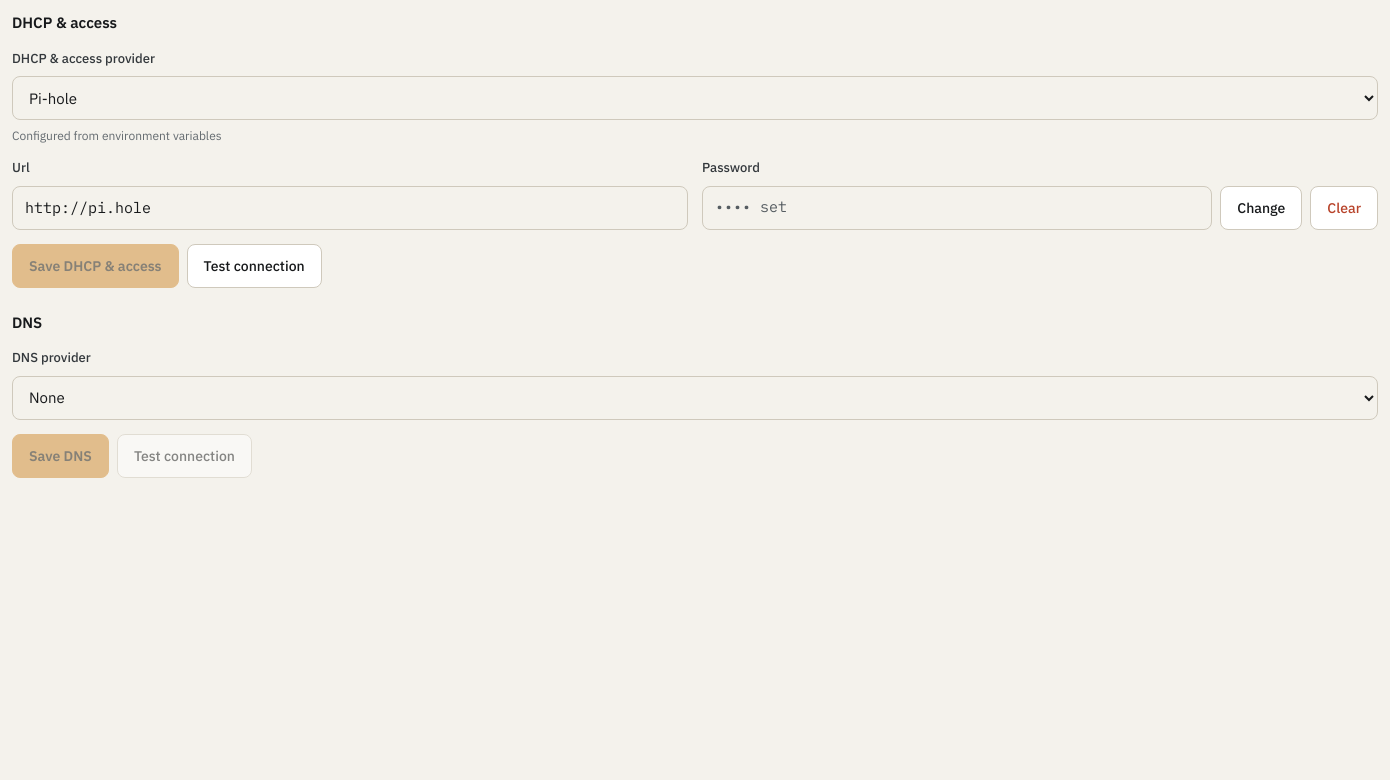
drops an unsaved DNS draft once DHCP is saved
Select "Pi-hole" in the dropdown labelled "DNS provider" at (695, 398), box [12,376,1378,420]
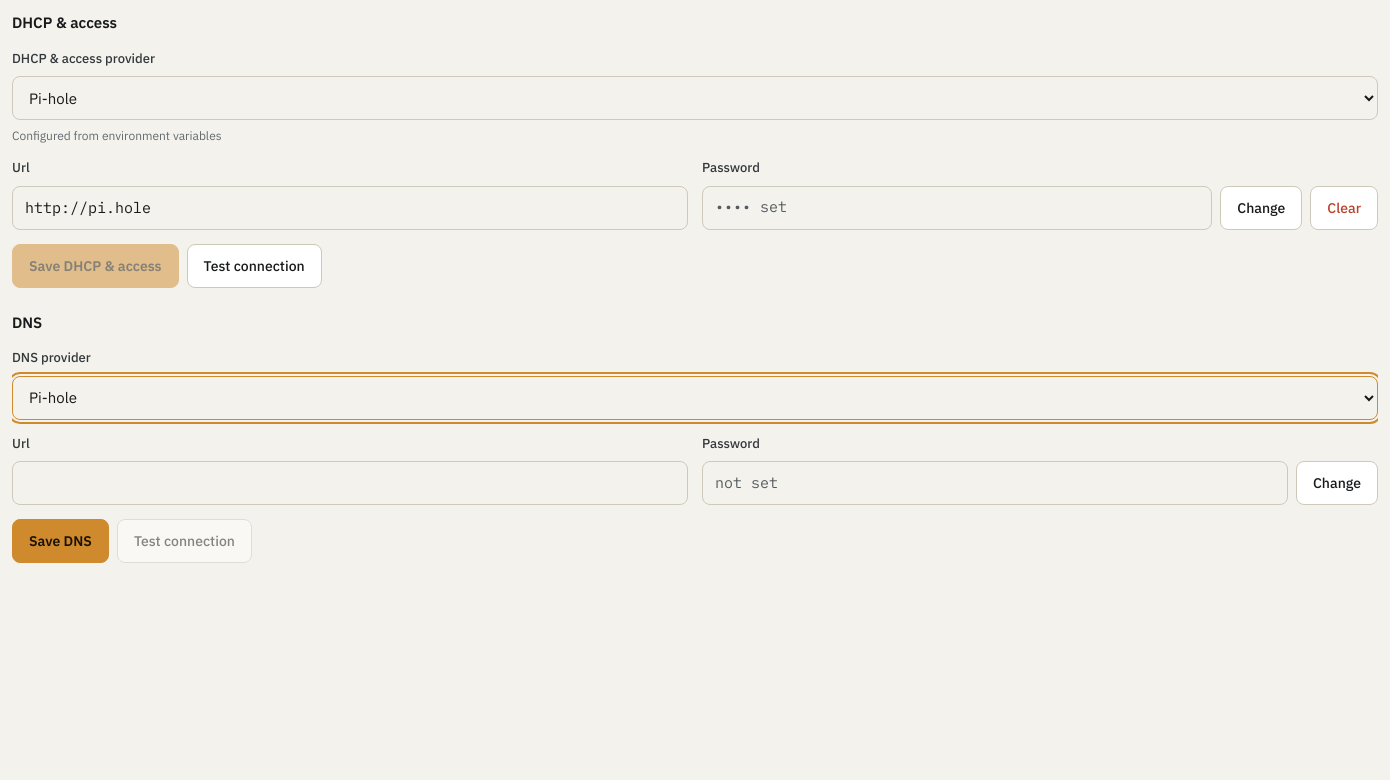
Select "UniFi" in the dropdown labelled "DHCP & access provider" at (695, 98), box [12,76,1378,120]
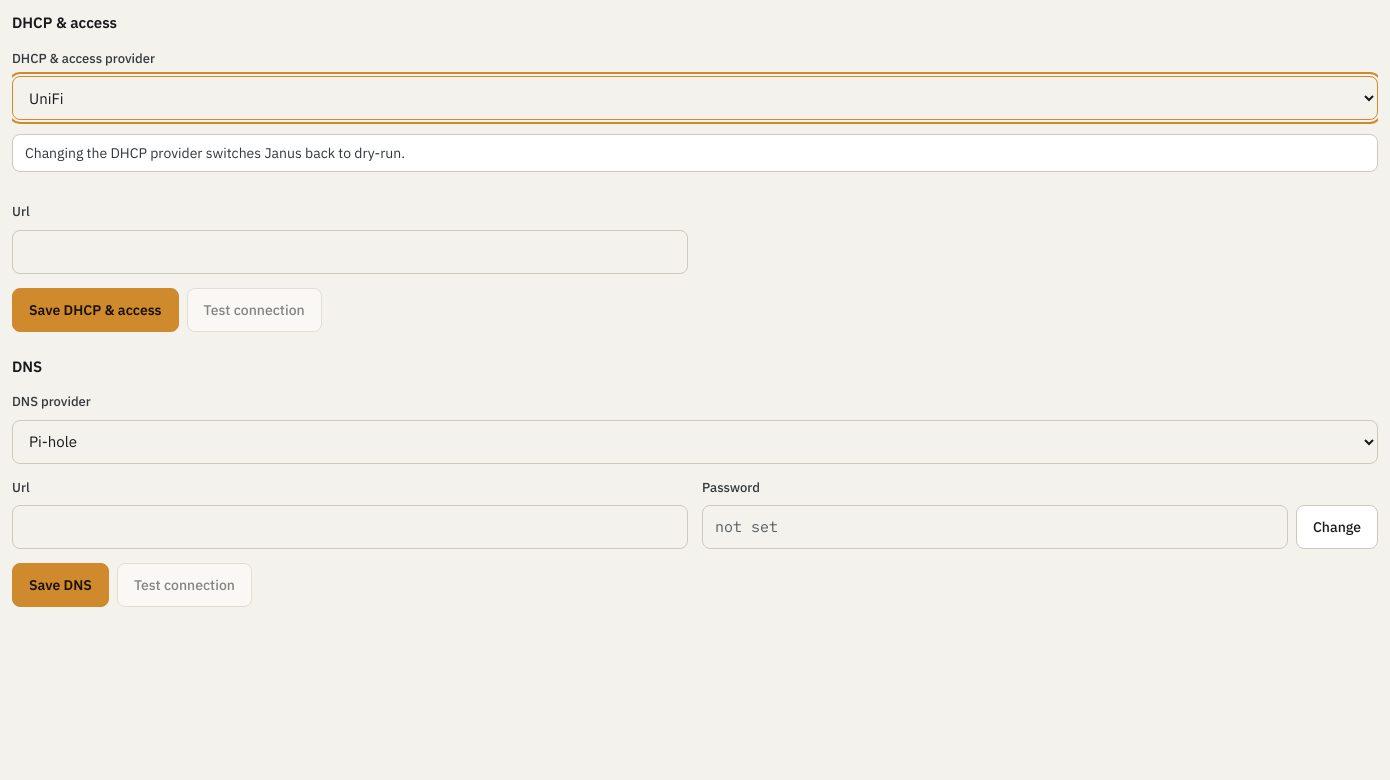
Click the button "Save DHCP & access" at (95, 310), box [12,288,179,332]
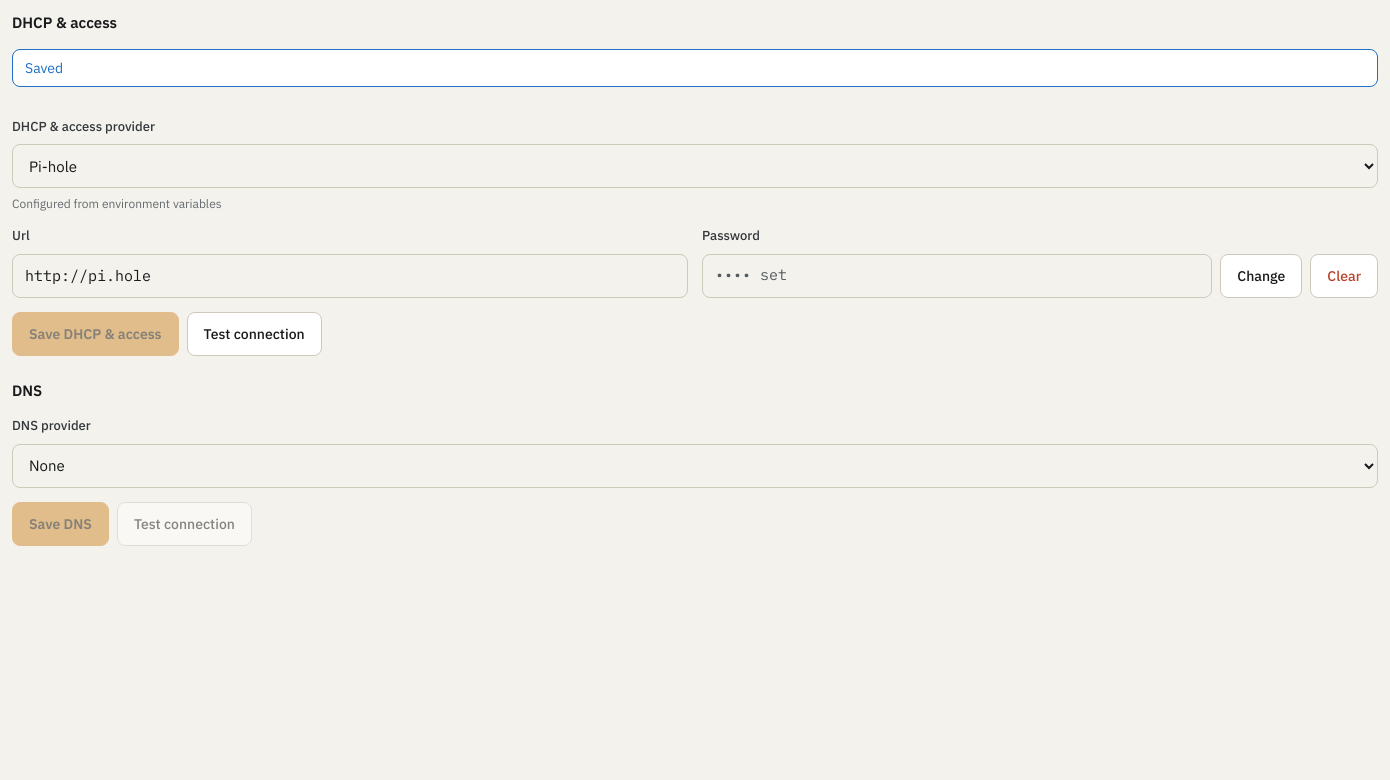
Check: the text "Saved" is shown, box [12,48,1378,86]
Check: the dropdown labelled "DNS provider" shows "None", box [12,444,1378,488]
